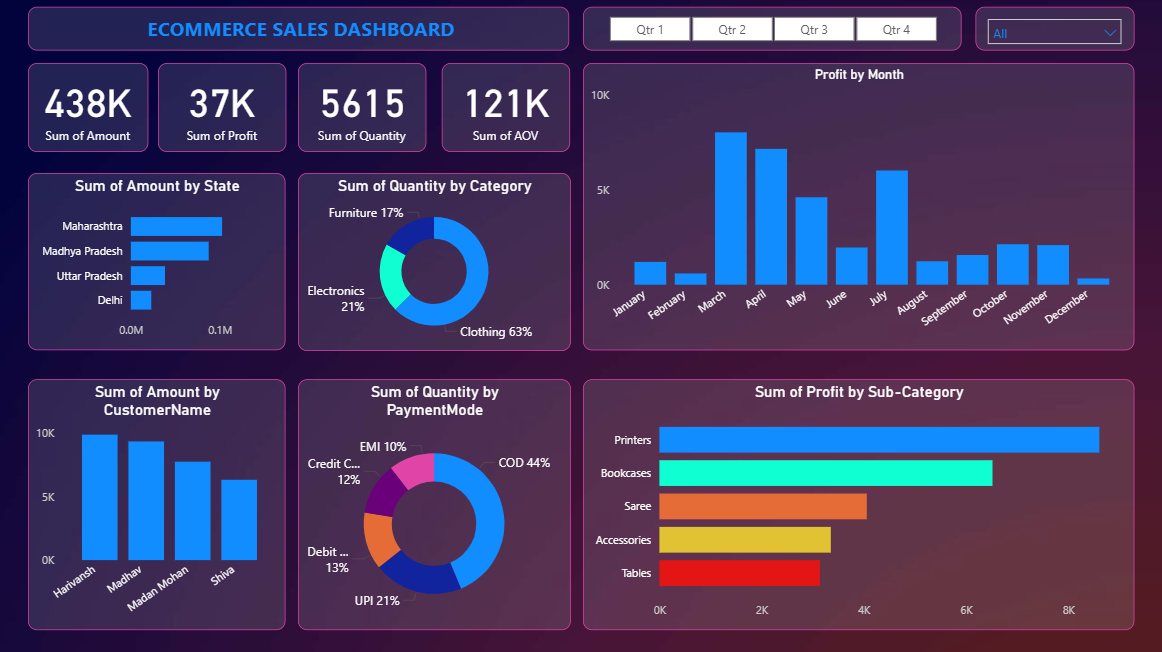

Layout of this report page (visuals, bound fields, positions):
{"tool":"powerbi","page":{"name":"Page 1","canvas":[1280,720],"ordinal":0},"visuals":[{"type":"textbox","box":[32.9,9.6,593.7,48],"z":0},{"type":"columnChart","title":" Profit by Month","fields":{"Y":["Details.Profit","Details.Profit"],"Category":["Orders.Order Date.Variation.Date Hierarchy.Month"]},"box":[643,71.3,604.6,315.3],"z":1000},{"type":"barChart","fields":{"Category":["Details.Sub-Category"],"Y":["Details.Profit"]},"box":[641.6,418.2,604.6,275.6],"z":2000},{"type":"donutChart","fields":{"Y":["Details.Quantity"],"Category":["Details.PaymentMode"]},"box":[329.1,418.2,298.9,275.6],"z":3000},{"type":"donutChart","fields":{"Category":["Details.Category"],"Y":["Details.Quantity"]},"box":[328.6,191.7,298.8,195.2],"z":4000},{"type":"card","fields":{"Values":["Details.Amount"]},"box":[32.9,71.3,131.6,97.3],"z":5000},{"type":"card","fields":{"Values":["Details.Profit"]},"box":[175,71.4,140.5,97.6],"z":6000},{"type":"card","fields":{"Values":["Details.Quantity"]},"box":[328.6,71.4,140.5,97.6],"z":7000},{"type":"card","fields":{"Values":["Details.AOV"]},"box":[486.9,71.4,140.5,97.6],"z":8000},{"type":"barChart","fields":{"Category":["Orders.State"],"Y":["Details.Amount"]},"box":[32.9,191.9,282.4,194.7],"z":9000},{"type":"columnChart","fields":{"Y":["Details.Amount"],"Category":["Orders.CustomerName"]},"box":[32.9,418.2,282.4,275.6],"z":10000},{"type":"slicer","fields":{"Values":["Orders.Order Date.Variation.Date Hierarchy.Quarter"]},"box":[641.6,9.6,415.4,48],"z":11000},{"type":"slicer","fields":{"Values":["Orders.State"]},"box":[1072.2,9.6,174.1,48],"z":12000}]}

Visuals, with their boxes in screenshot pixels (x1, y1, x2, y2), scaled from the page's 1280x720 canvas onto the 1162x652 screenshot:
textbox: left=30, top=9, right=569, bottom=52
" Profit by Month" columnChart: left=584, top=65, right=1133, bottom=350
barChart - Details.Sub-Category x Details.Profit: left=582, top=379, right=1131, bottom=628
donutChart - Details.Quantity x Details.PaymentMode: left=299, top=379, right=570, bottom=628
donutChart - Details.Category x Details.Quantity: left=298, top=174, right=570, bottom=350
card - Details.Amount: left=30, top=65, right=149, bottom=153
card - Details.Profit: left=159, top=65, right=286, bottom=153
card - Details.Quantity: left=298, top=65, right=426, bottom=153
card - Details.AOV: left=442, top=65, right=570, bottom=153
barChart - Orders.State x Details.Amount: left=30, top=174, right=286, bottom=350
columnChart - Details.Amount x Orders.CustomerName: left=30, top=379, right=286, bottom=628
slicer - Orders.Order Date.Variation.Date Hierarchy.Quarter: left=582, top=9, right=960, bottom=52
slicer - Orders.State: left=973, top=9, right=1131, bottom=52
